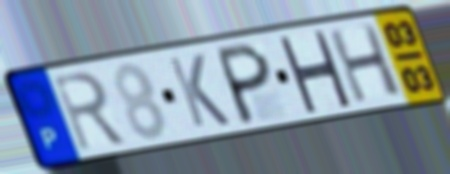8: (112, 59, 170, 144)
H: (324, 20, 406, 106), (274, 29, 354, 114)
K: (165, 51, 234, 131)
P: (215, 39, 274, 127)
R: (49, 68, 130, 155)
